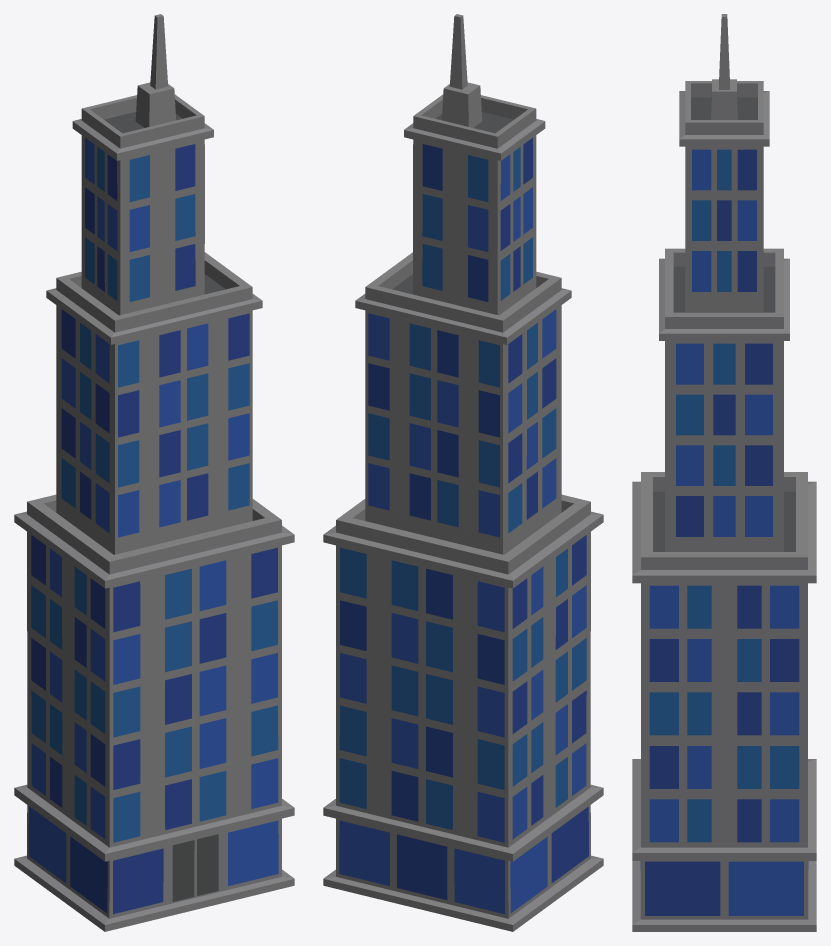
File: HighHouse 1.3.fbx
3 renders of one model, left to right at view 1: azimuth 30°, elevation 25°; view 2: azimuth 150°, elevation 25°; view 3: azimuth 270°, elevation 25°, orthographic.
Parts seen in each view (by area): view 1: HighHouse_1_03; view 2: HighHouse_1_03; view 3: HighHouse_1_03.
Boxes of the visible parts, x1,y1,x2,y2 form: HighHouse_1_03: (14, 14, 294, 931); HighHouse_1_03: (323, 14, 603, 931); HighHouse_1_03: (632, 14, 816, 931).
Size of the model in its own units: 551 by 2380 by 456.
